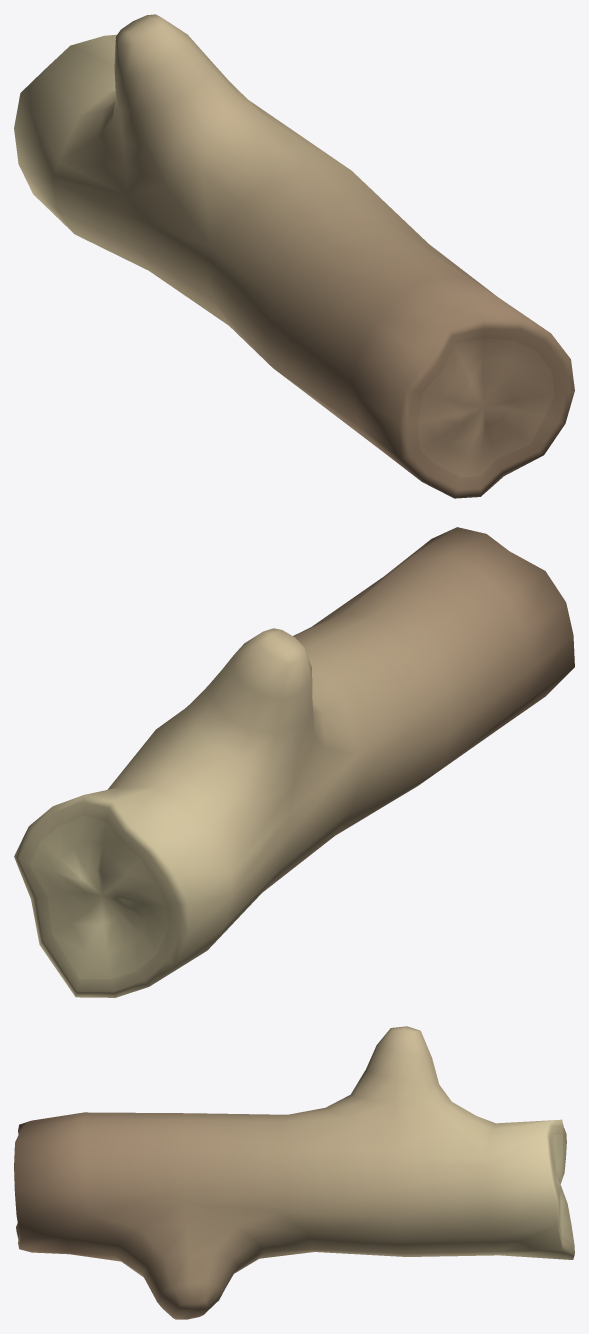
File: WoodenLog-Capped-2.fbx
3 renders of one model, top to bottom at view 1: azimuth 30°, elevation 25°; view 2: azimuth 150°, elevation 25°; view 3: azimuth 270°, elevation 25°, orthographic. The views are drawn at different scales.
Visible parts, largest first — view 1: Wood.005; view 2: Wood.005; view 3: Wood.005.
Part boxes in pixels (x1,y1,x2,y2): Wood.005: (14,14,574,498); Wood.005: (14,527,574,997); Wood.005: (14,1026,574,1319).
Bounding box in the file's own units: 89.12 × 125 × 266.
